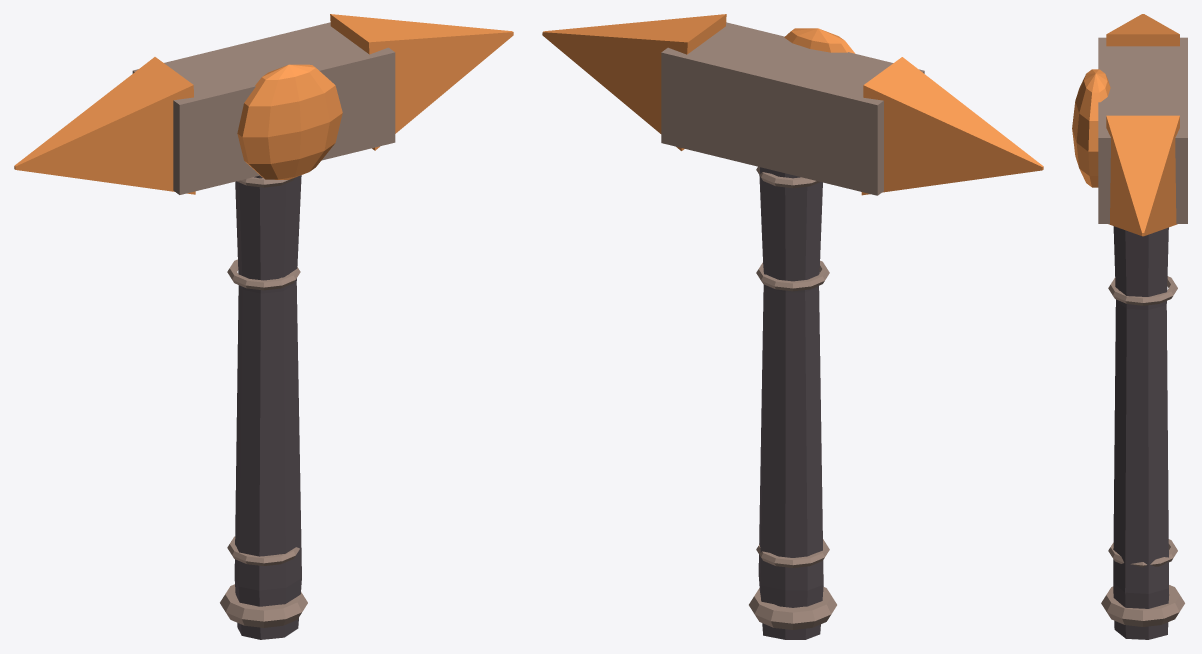
Rendered from BH_PICK_P12_Picareta_de_Magma_Profano_V01.glb.
3 views of the same model, side by side, from view 1: azimuth 30°, elevation 25°; view 2: azimuth 150°, elevation 25°; view 3: azimuth 270°, elevation 25° (orthographic). The views are drawn at different scales.
Visible parts, largest first — view 1: Handle | shaped shaft.001, Head | main crossbar.001, Head | mining tooth L.001, Core | socket gem.001, Head | mining tooth R.001, Handle | pommel.001, Handle | binding 3.001, Handle | binding 1.001; view 2: Head | main crossbar.001, Handle | shaped shaft.001, Head | mining tooth L.001, Head | mining tooth R.001, Handle | pommel.001, Core | socket gem.001, Handle | binding 3.001, Handle | binding 1.001; view 3: Handle | shaped shaft.001, Head | main crossbar.001, Head | mining tooth R.001, Core | socket gem.001, Head | mining tooth L.001, Handle | pommel.001, Handle | binding 3.001, Handle | binding 1.001.
Part boxes in pixels (box(x1,y1,x2,y2)): Handle | shaped shaft.001: box(234, 175, 301, 639); Head | main crossbar.001: box(132, 22, 395, 194); Head | mining tooth L.001: box(14, 57, 195, 194); Core | socket gem.001: box(237, 64, 342, 179); Head | mining tooth R.001: box(330, 14, 513, 150); Handle | pommel.001: box(220, 584, 307, 627); Handle | binding 3.001: box(227, 259, 300, 290); Handle | binding 1.001: box(227, 536, 299, 565); Head | main crossbar.001: box(661, 22, 924, 195); Handle | shaped shaft.001: box(758, 167, 823, 639); Head | mining tooth L.001: box(861, 57, 1043, 195); Head | mining tooth R.001: box(542, 14, 726, 150); Handle | pommel.001: box(749, 587, 836, 629); Core | socket gem.001: box(784, 28, 855, 53); Handle | binding 3.001: box(756, 260, 829, 291); Handle | binding 1.001: box(756, 539, 829, 567); Handle | shaped shaft.001: box(1113, 226, 1168, 639); Head | main crossbar.001: box(1098, 37, 1187, 223); Head | mining tooth R.001: box(1106, 115, 1179, 236); Core | socket gem.001: box(1072, 69, 1110, 187); Head | mining tooth L.001: box(1106, 14, 1179, 46); Handle | pommel.001: box(1101, 585, 1184, 626); Handle | binding 3.001: box(1108, 276, 1177, 305); Handle | binding 1.001: box(1108, 539, 1177, 567).
Size of the model in its own units: 2.08 by 2.32 by 0.44.
